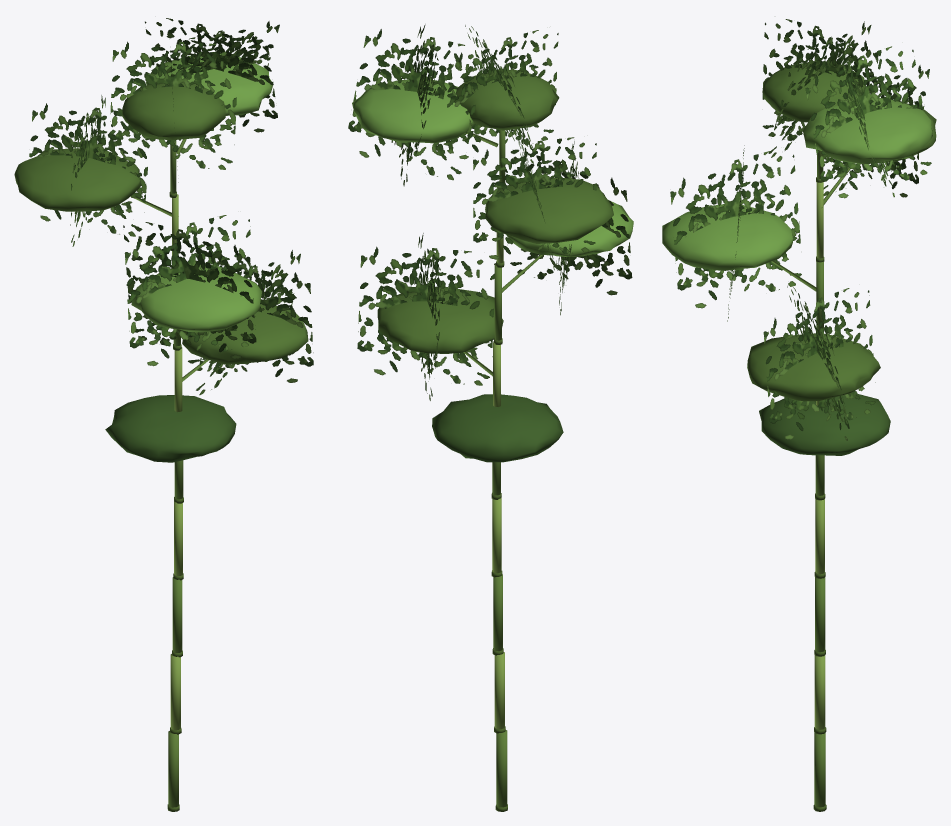
Rendered from bamboo.glb.
3 renders of one model, left to right at view 1: azimuth 30°, elevation 25°; view 2: azimuth 150°, elevation 25°; view 3: azimuth 270°, elevation 25°, orthographic. The views are drawn at different scales.
Parts seen in each view (by area): view 1: geometry_0, geometry_1; view 2: geometry_0, geometry_1; view 3: geometry_0, geometry_1.
Boxes of the visible parts, x1=… form: geometry_0: x1=14, y1=52, x2=308, y2=811; geometry_1: x1=29, y1=18, x2=313, y2=395; geometry_0: x1=352, y1=69, x2=633, y2=811; geometry_1: x1=348, y1=24, x2=632, y2=400; geometry_0: x1=662, y1=61, x2=936, y2=811; geometry_1: x1=670, y1=19, x2=931, y2=440.
Size of the model in its own units: 2.98 by 8.3 by 2.64.
2 materials, 1 textured.
